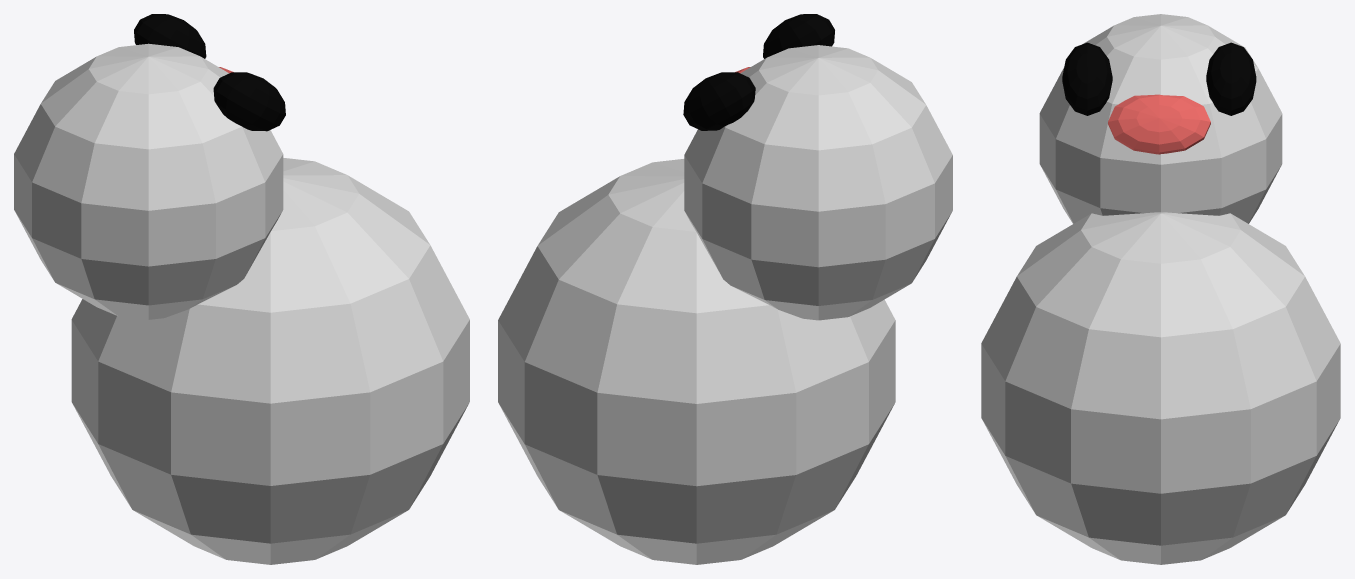
3 renders of one model, left to right at view 1: azimuth 30°, elevation 25°; view 2: azimuth 150°, elevation 25°; view 3: azimuth 270°, elevation 25°, orthographic. The views are drawn at different scales.
Parts seen in each view (by area): view 1: Sphere, Sphere.001, Sphere.003, Sphere.002; view 2: Sphere, Sphere.001, Sphere.002, Sphere.003; view 3: Sphere, Sphere.001, Sphere.004, Sphere.003, Sphere.002.
Part boxes in pixels (bbox=[...]): Sphere: bbox=[71, 158, 469, 564]; Sphere.001: bbox=[14, 43, 283, 319]; Sphere.003: bbox=[213, 72, 285, 131]; Sphere.002: bbox=[134, 14, 206, 58]; Sphere: bbox=[498, 159, 895, 564]; Sphere.001: bbox=[684, 45, 952, 320]; Sphere.002: bbox=[683, 72, 755, 130]; Sphere.003: bbox=[763, 14, 834, 58]; Sphere: bbox=[981, 212, 1340, 564]; Sphere.001: bbox=[1039, 14, 1282, 223]; Sphere.004: bbox=[1108, 94, 1210, 154]; Sphere.003: bbox=[1062, 42, 1112, 115]; Sphere.002: bbox=[1206, 42, 1256, 115].
Bounding box in the file's own units: 232 × 281 × 195.
